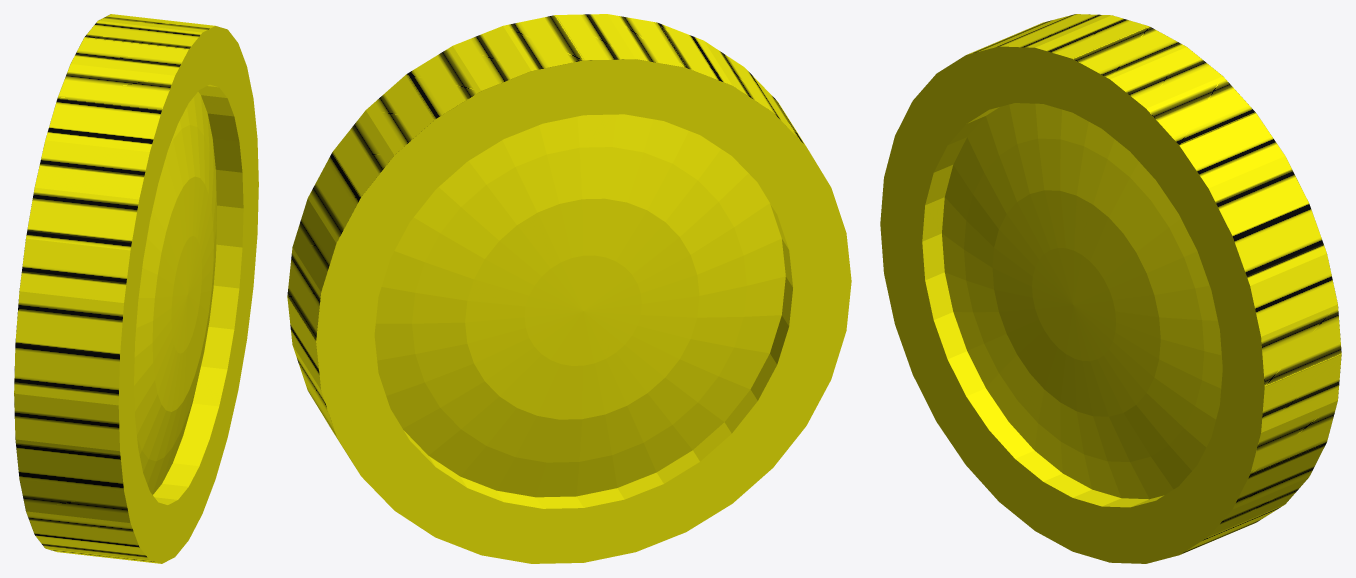
Rendered from Coin.fbx.
3 renders of one model, left to right at view 1: azimuth 30°, elevation 25°; view 2: azimuth 150°, elevation 25°; view 3: azimuth 270°, elevation 25°, orthographic. The views are drawn at different scales.
Visible parts, largest first — view 1: Cylinder.007; view 2: Cylinder.007; view 3: Cylinder.007.
Part boxes in pixels (x1=…): Cylinder.007: x1=14, y1=14, x2=258, y2=563; Cylinder.007: x1=287, y1=14, x2=851, y2=563; Cylinder.007: x1=880, y1=14, x2=1341, y2=563.
Size of the model in its own units: 0.6788 by 0.8 by 0.6788.
